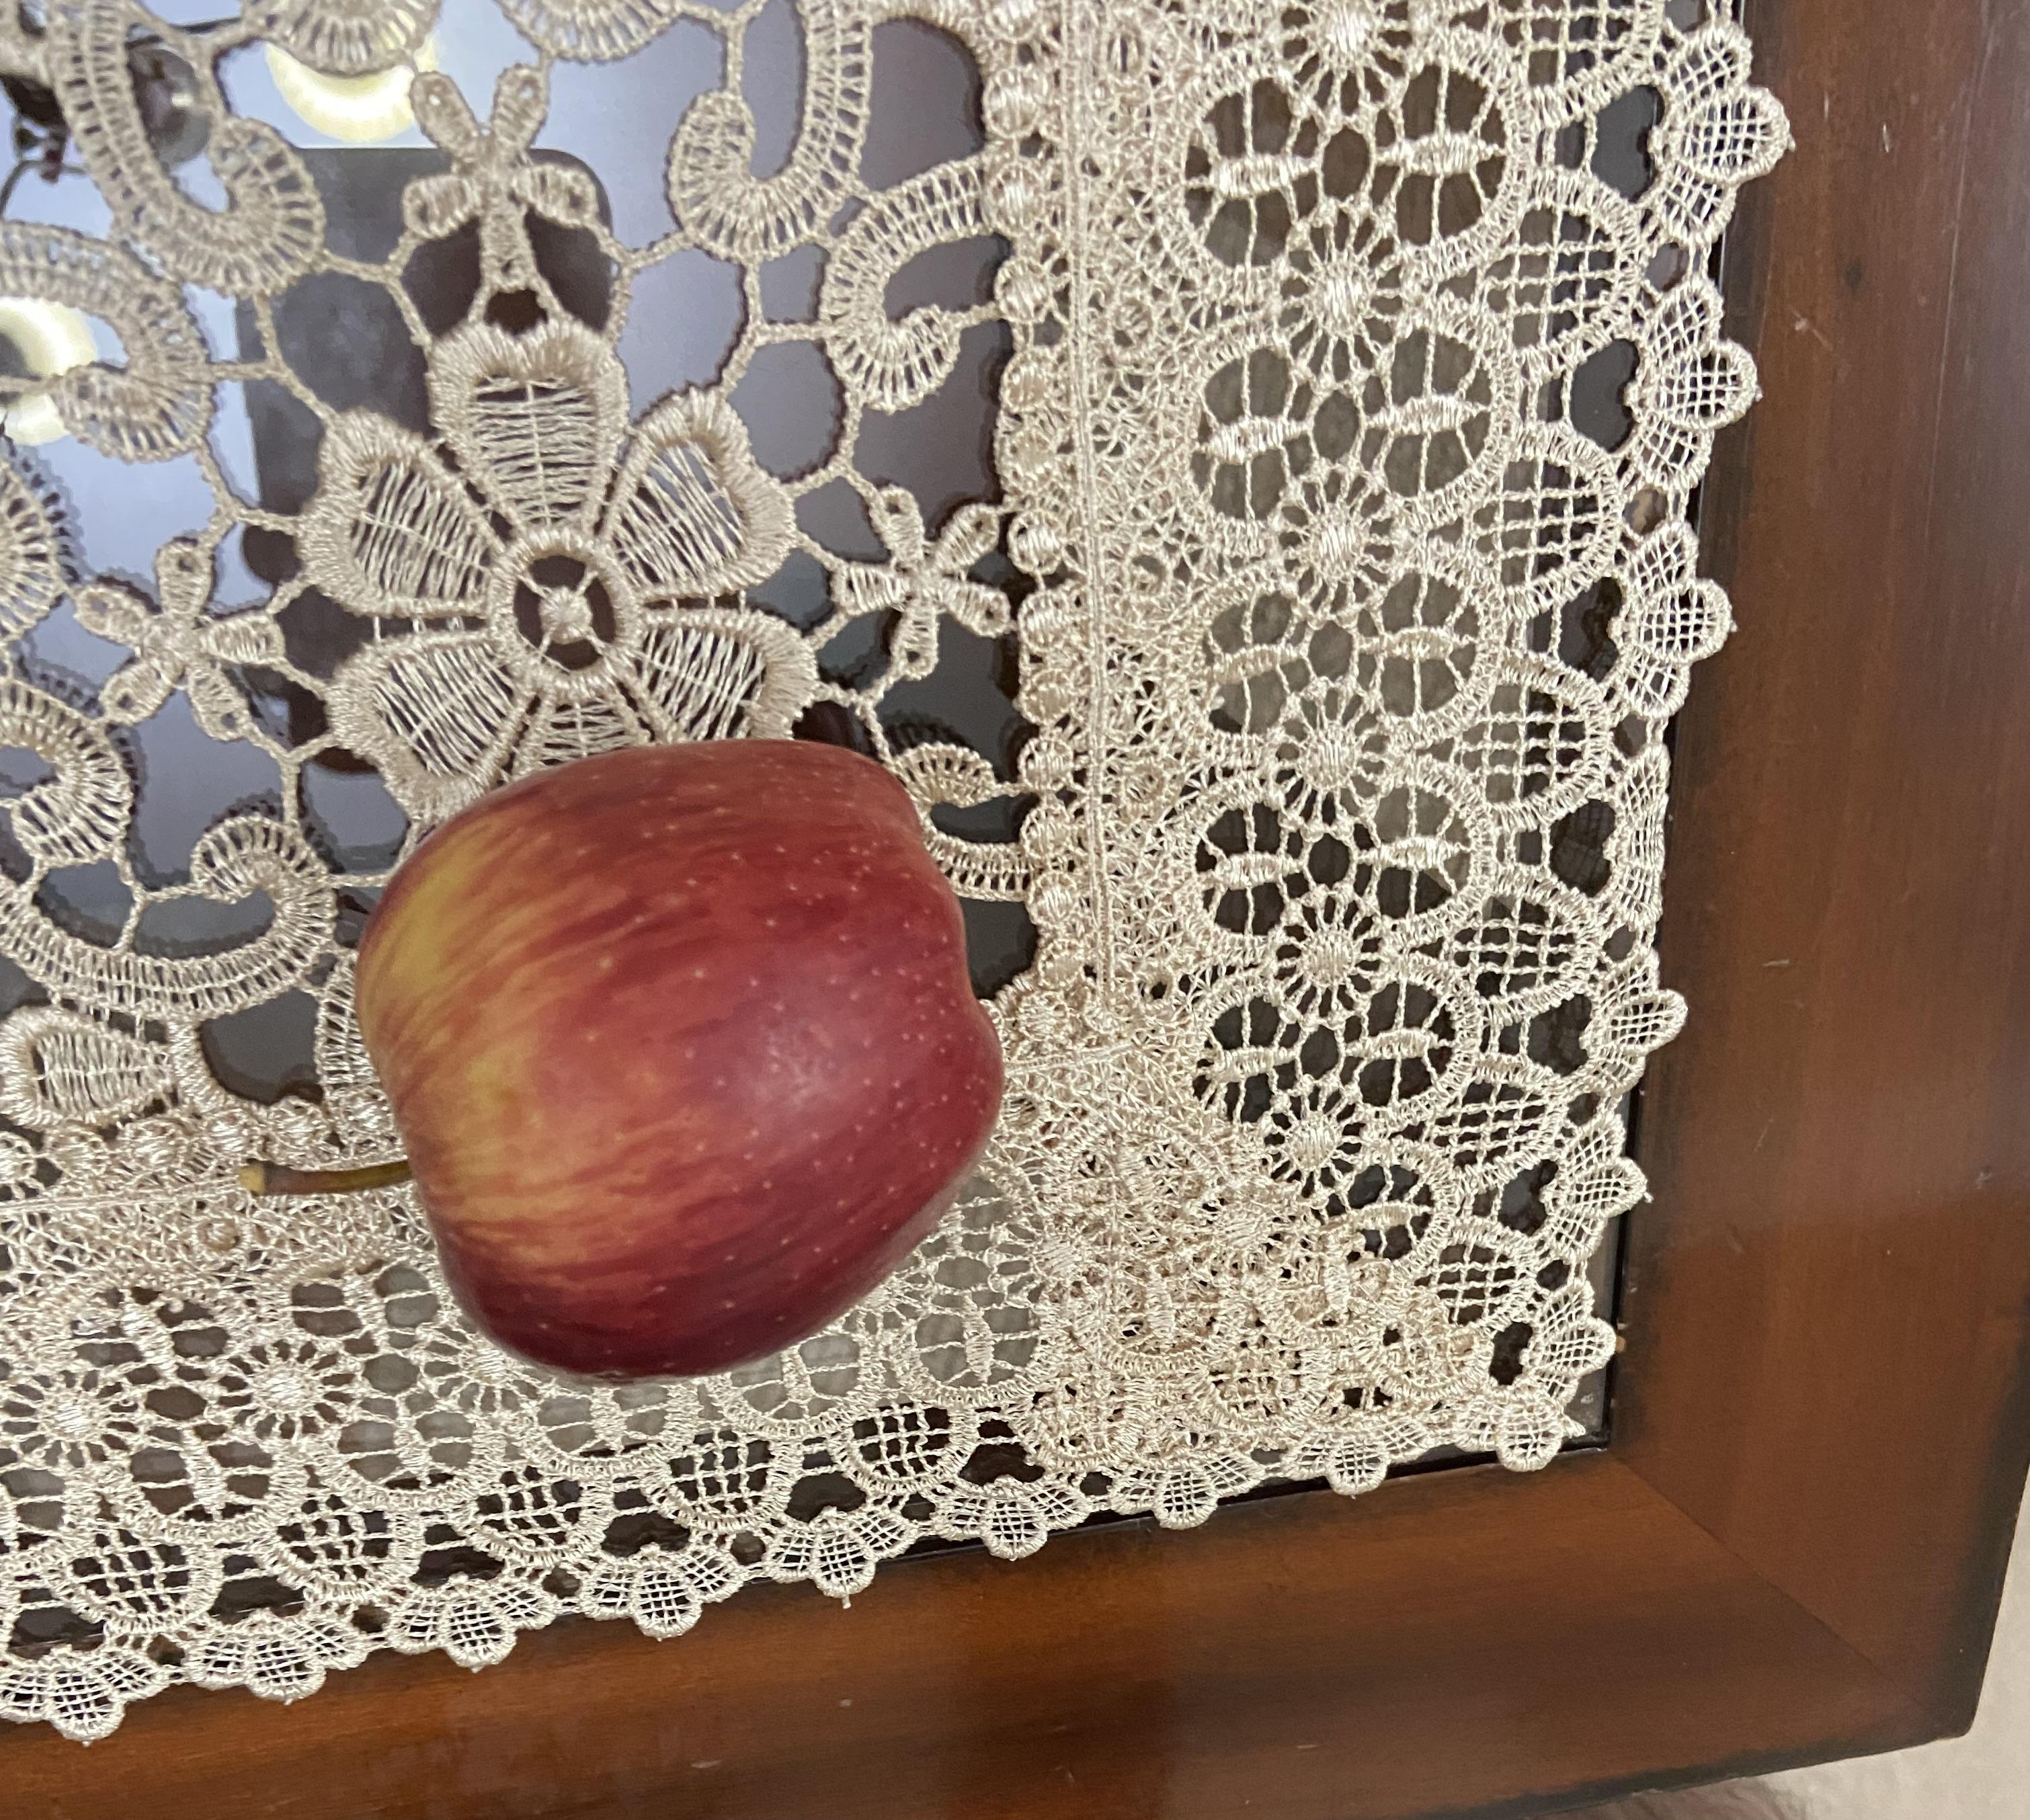Apple: (227, 729, 1016, 1384)
